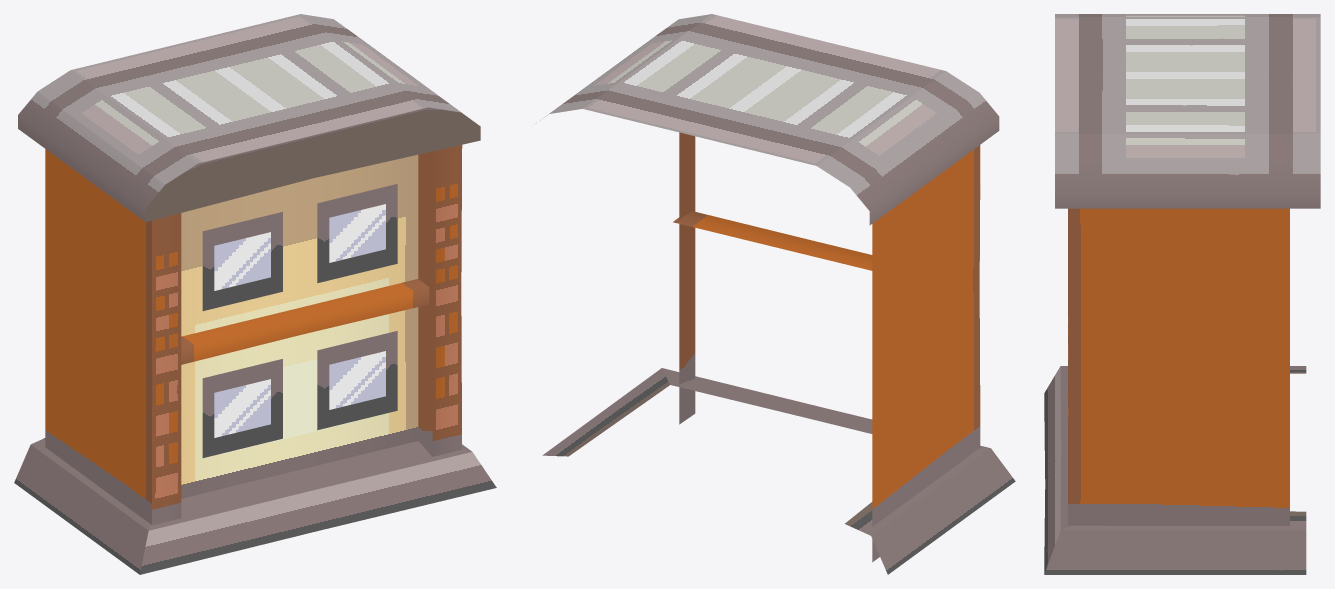
The picture shows the model from 3 angles, left to right: view 1: azimuth 30°, elevation 25°; view 2: azimuth 150°, elevation 25°; view 3: azimuth 270°, elevation 25°; orthographic projection. The views are drawn at different scales.
Bounding box in the file's own units: 3.98 × 4.18 × 2.56.
Materials: 2 (2 with a texture image).
